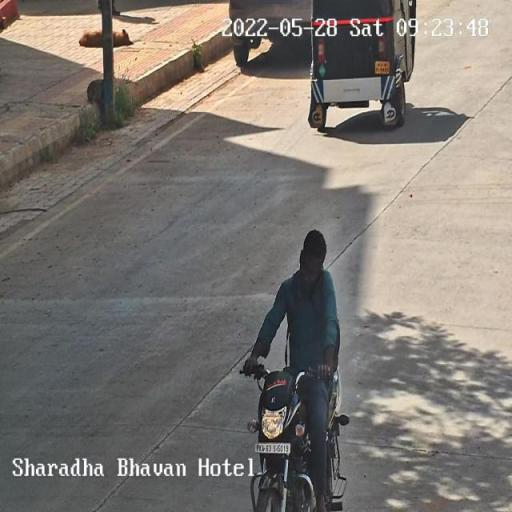using mobile: (294, 260, 328, 306)
